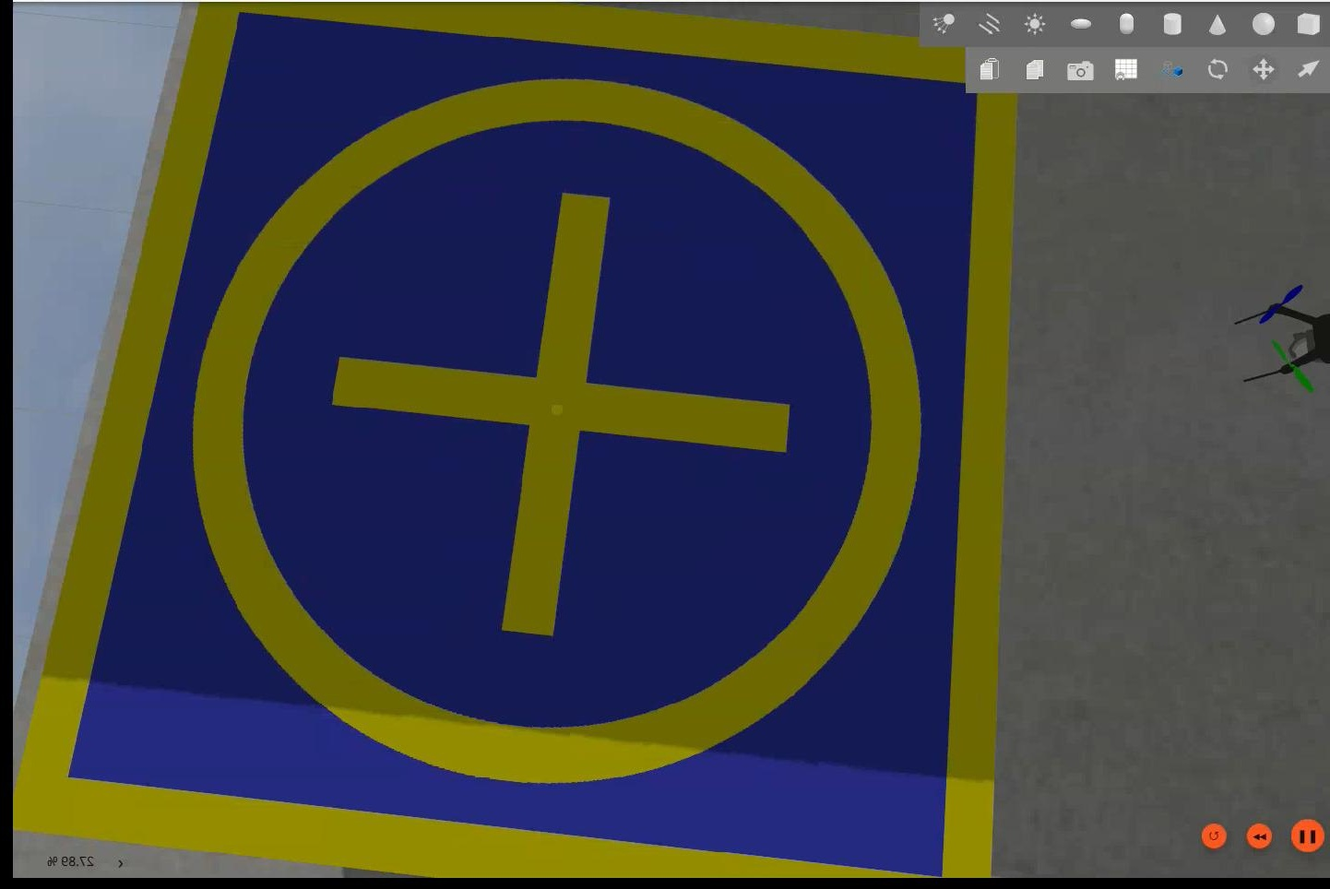small_base: (6, 1, 1020, 886)
